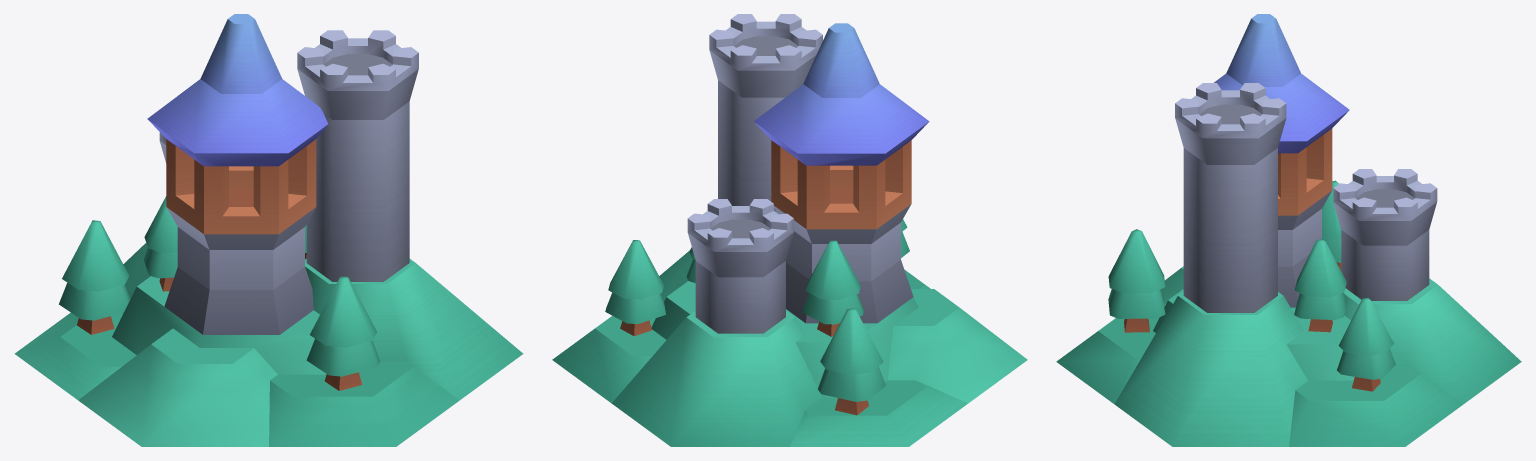
The model's file is wizard_tower.fbx.
3 renders of one model, left to right at view 1: azimuth 30°, elevation 25°; view 2: azimuth 150°, elevation 25°; view 3: azimuth 270°, elevation 25°, orthographic. The views are drawn at different scales.
Visible parts, largest first — view 1: building_wizard_tower; view 2: building_wizard_tower; view 3: building_wizard_tower.
Boxes of the visible parts, x1,y1,x2,y2 form: building_wizard_tower: (14, 14, 523, 446); building_wizard_tower: (552, 14, 1027, 446); building_wizard_tower: (1056, 14, 1521, 446).
Size of the model in its own units: 100 by 88.84 by 115.
